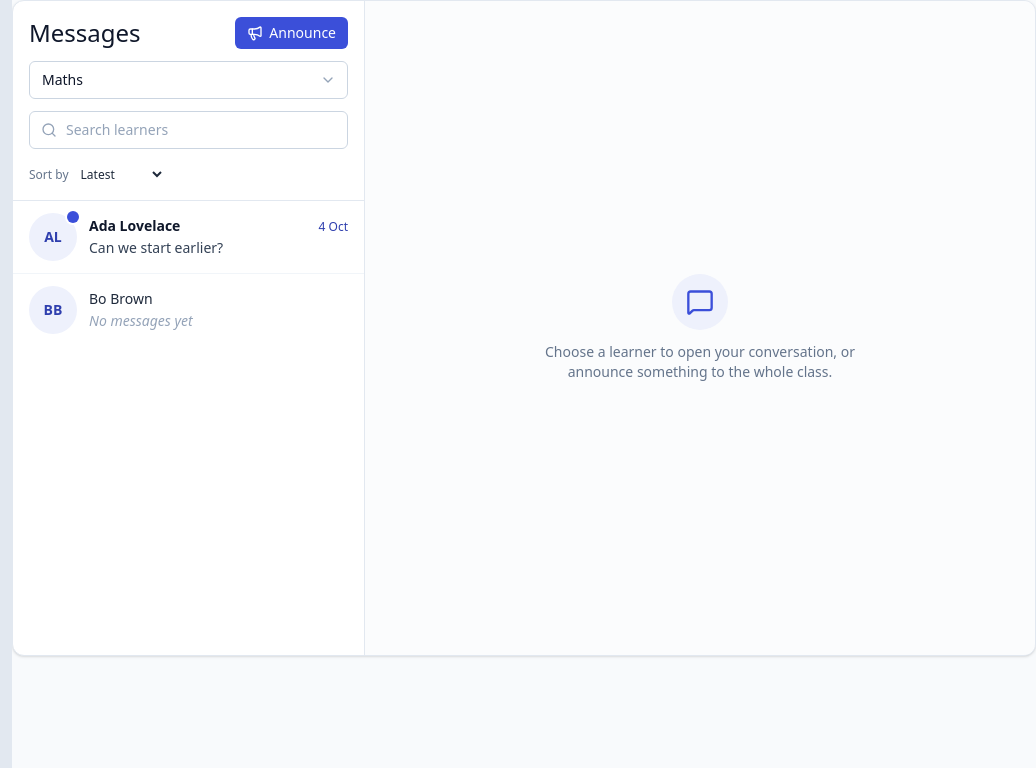
Test case: CreatorMessagesPage › lists the first class's learners and opens a conversation, marking it read
Expected: the text "Bo Brown" is shown, [89,289,153,309]
Expected: the text "No messages yet" is shown, [89,311,193,330]
Click the text "Ada Lovelace": coordinates (135, 226) [89,216,180,236]
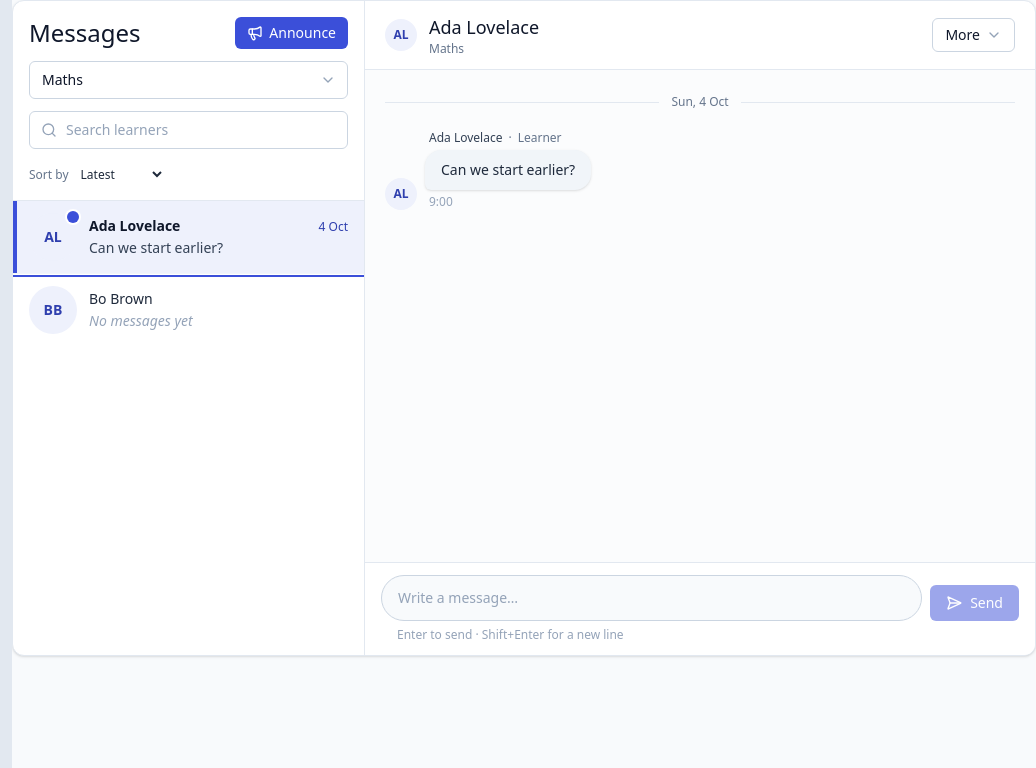
Result: the heading "Ada Lovelace" is shown at [429,15,539,39]
